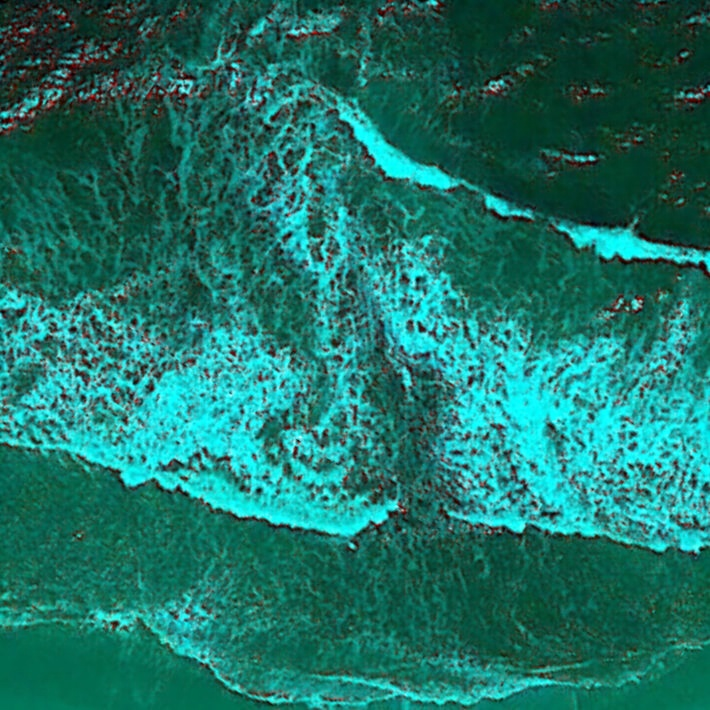rip_current: (211, 105, 499, 489)
